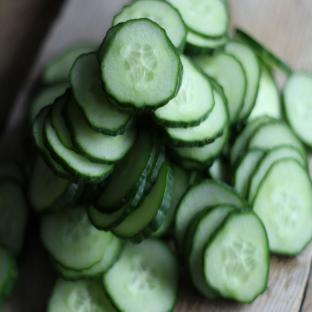Cucumber: (101, 19, 181, 111), (204, 211, 269, 302), (253, 159, 311, 255), (104, 239, 178, 311), (70, 53, 134, 135), (175, 180, 246, 250), (94, 131, 155, 212), (112, 162, 173, 243), (184, 205, 236, 299), (65, 98, 136, 164), (44, 116, 113, 182), (41, 207, 112, 270), (153, 56, 214, 127), (193, 52, 246, 123), (113, 0, 186, 51), (165, 90, 228, 147), (248, 146, 306, 203), (52, 236, 123, 280), (28, 157, 82, 212), (88, 180, 146, 230), (32, 106, 71, 179), (225, 42, 260, 120), (153, 164, 189, 237), (236, 29, 291, 75), (248, 122, 306, 162), (230, 116, 275, 166), (47, 279, 116, 311), (173, 126, 229, 165), (42, 44, 96, 84), (283, 72, 311, 147), (0, 179, 27, 255), (248, 63, 281, 121), (28, 83, 69, 124), (51, 90, 76, 150), (234, 149, 264, 198), (144, 135, 165, 194), (97, 23, 123, 66), (184, 31, 229, 55), (0, 247, 17, 308), (78, 179, 108, 205), (0, 159, 27, 185), (208, 156, 229, 181), (179, 159, 210, 172), (189, 171, 204, 186)
